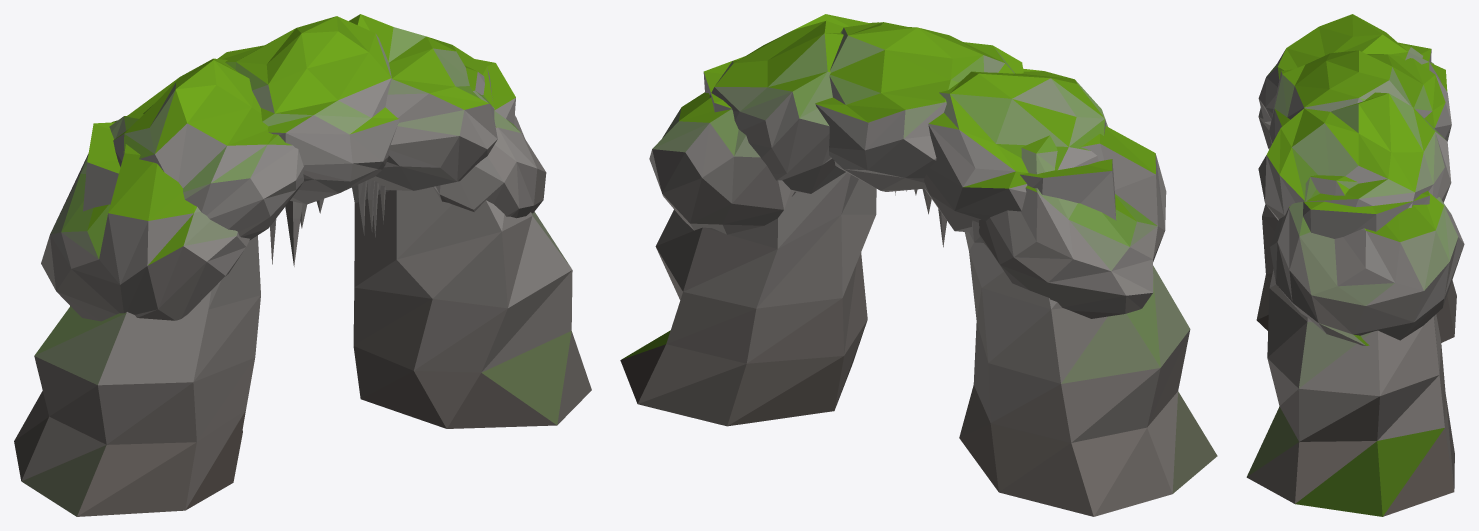
File: batu_arch_limestone_890546.glb
3 renders of one model, left to right at view 1: azimuth 30°, elevation 25°; view 2: azimuth 150°, elevation 25°; view 3: azimuth 270°, elevation 25°, orthographic. The views are drawn at different scales.
Parts seen in each view (by area): view 1: Lengkungan_Gua_Batu; view 2: Lengkungan_Gua_Batu; view 3: Lengkungan_Gua_Batu.
Boxes of the visible parts, x1,y1,x2,y2 form: Lengkungan_Gua_Batu: [14, 14, 591, 516]; Lengkungan_Gua_Batu: [620, 14, 1217, 516]; Lengkungan_Gua_Batu: [1246, 14, 1464, 516].
Bounding box in the file's own units: 10.57 × 7.18 × 4.12.
